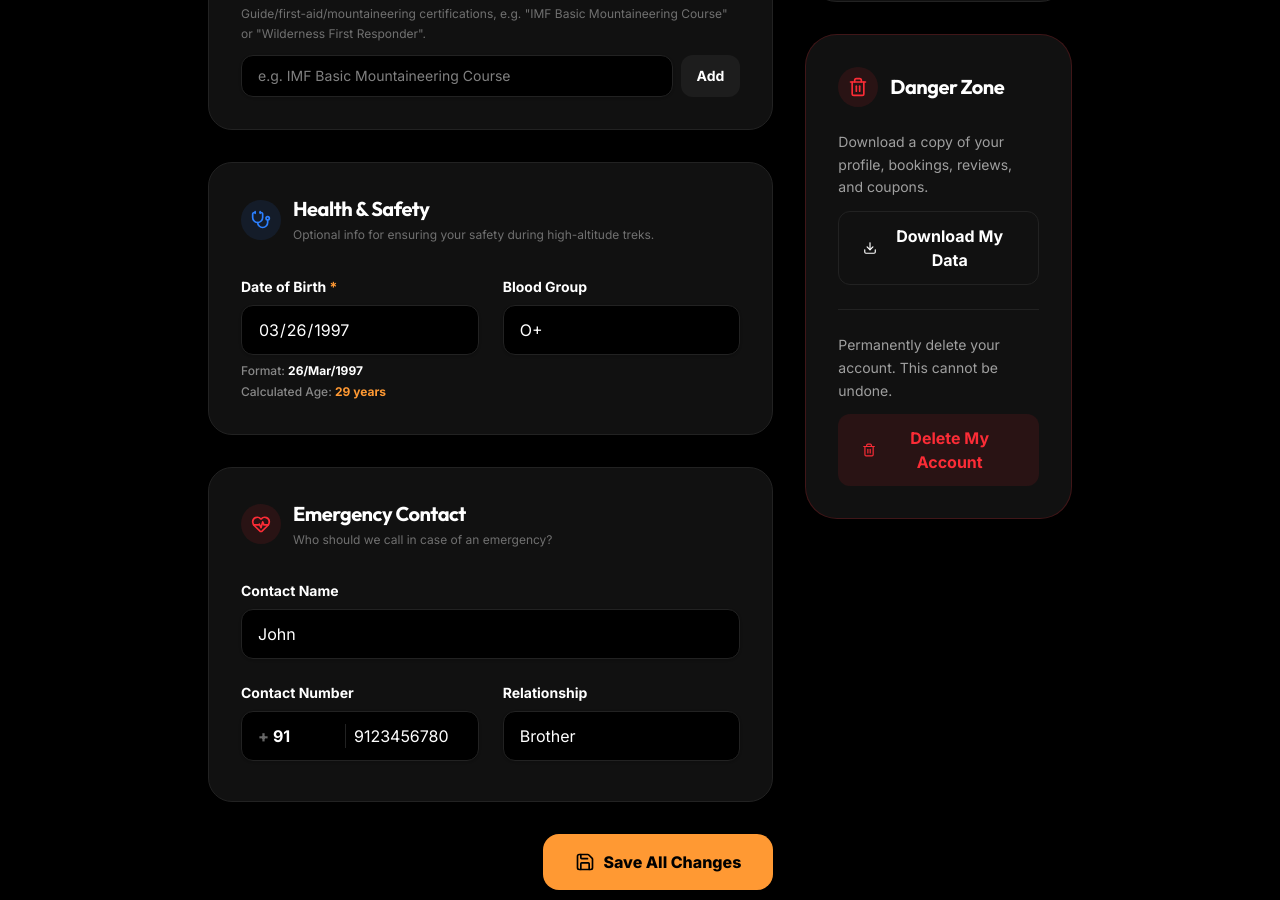
Test case: app/dashboard/settings/page › disables the delete-account submit button until DELETE is typed
This screenshot has width=1280, height=900.
(page scrolled)
Step 1. Click the button "Delete My Account" → [939, 450], box left=838, top=414, right=1039, bottom=486
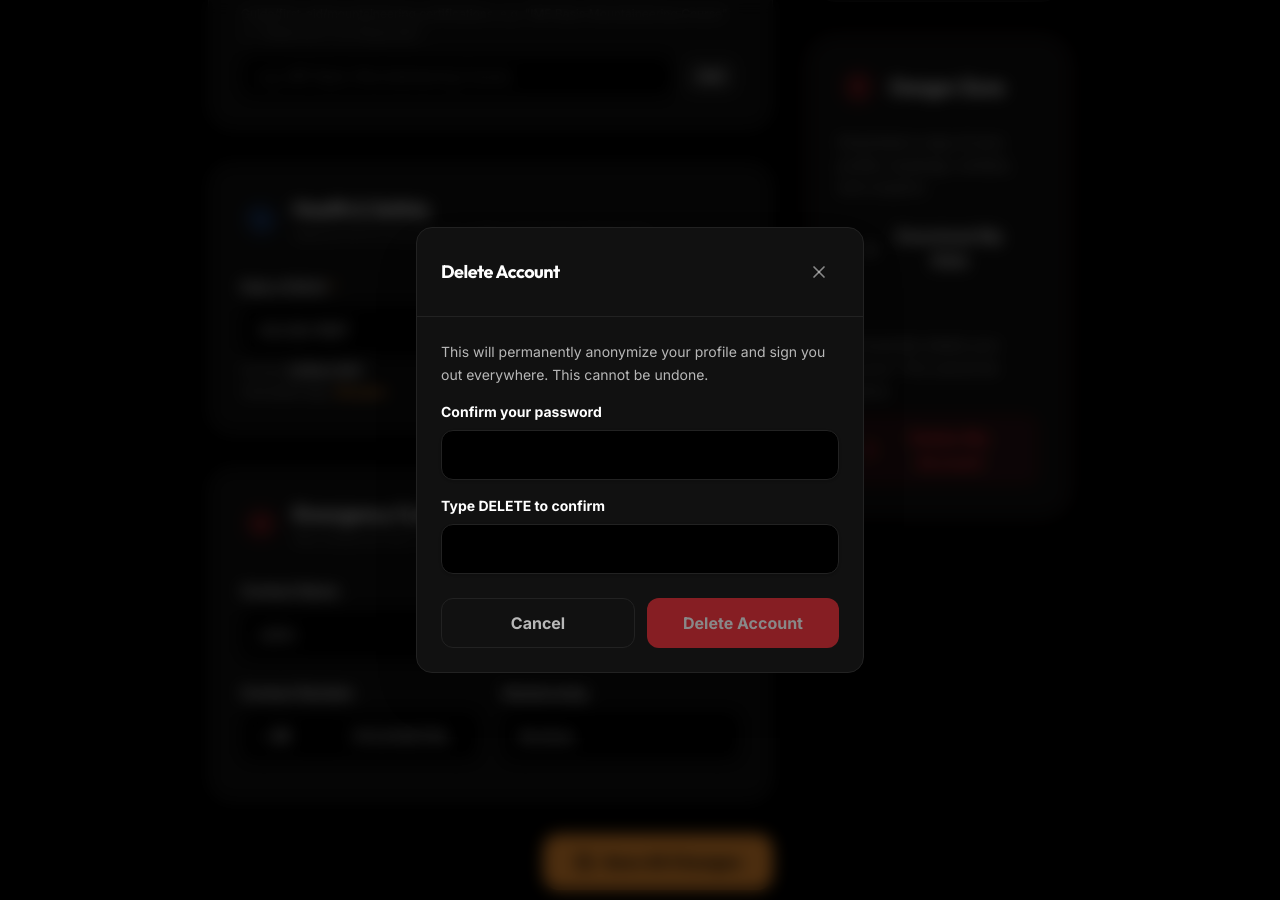
Now the button "Delete Account" is disabled, box left=647, top=598, right=839, bottom=648
Step 2. Type "DELETE" into the field labelled "Type DELETE to confirm" → [640, 549], box left=441, top=524, right=839, bottom=574
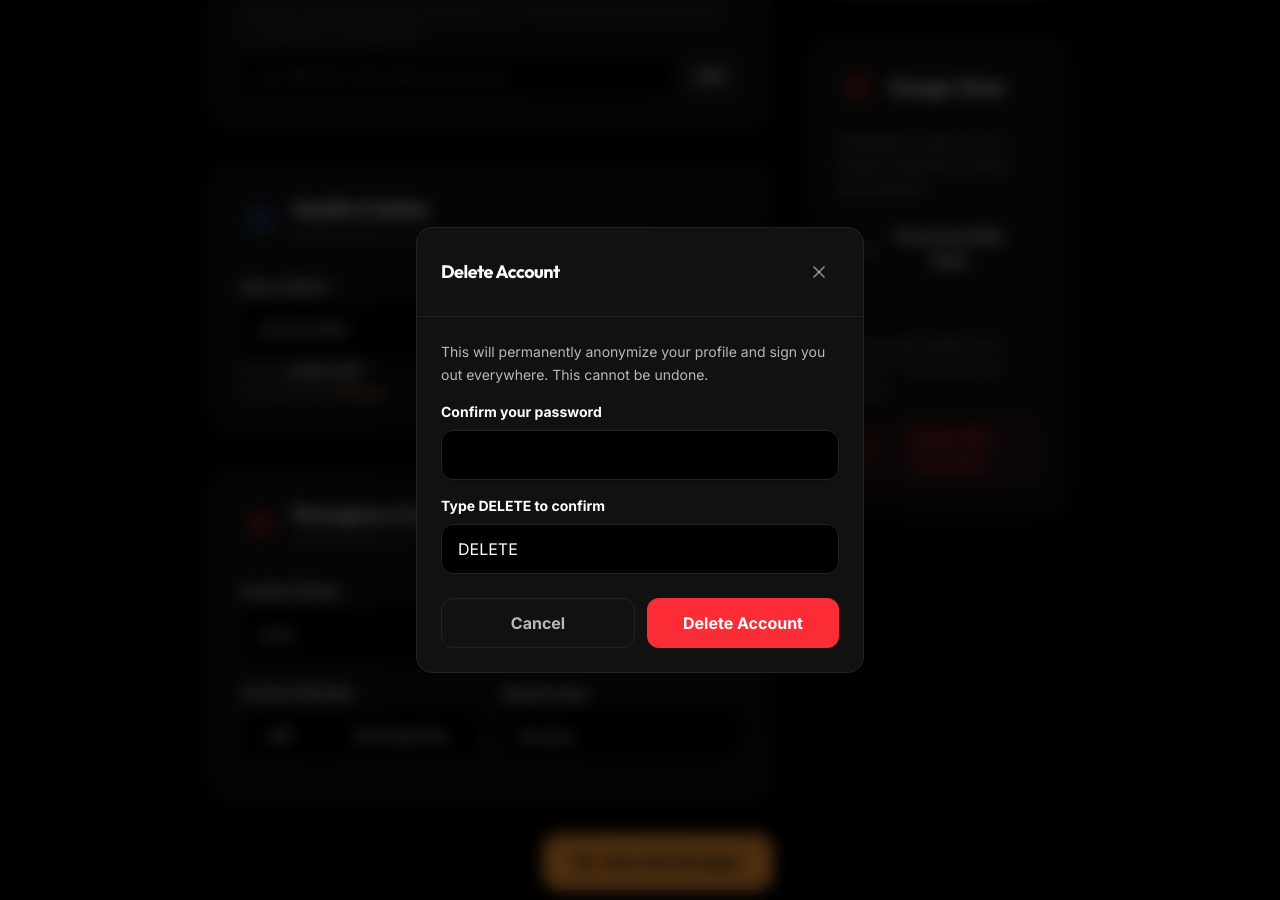
Now the button "Delete Account" is enabled, box left=647, top=598, right=839, bottom=648
